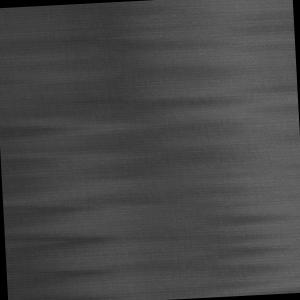Wrinkle: (92, 1, 284, 300), (1, 104, 124, 300)
